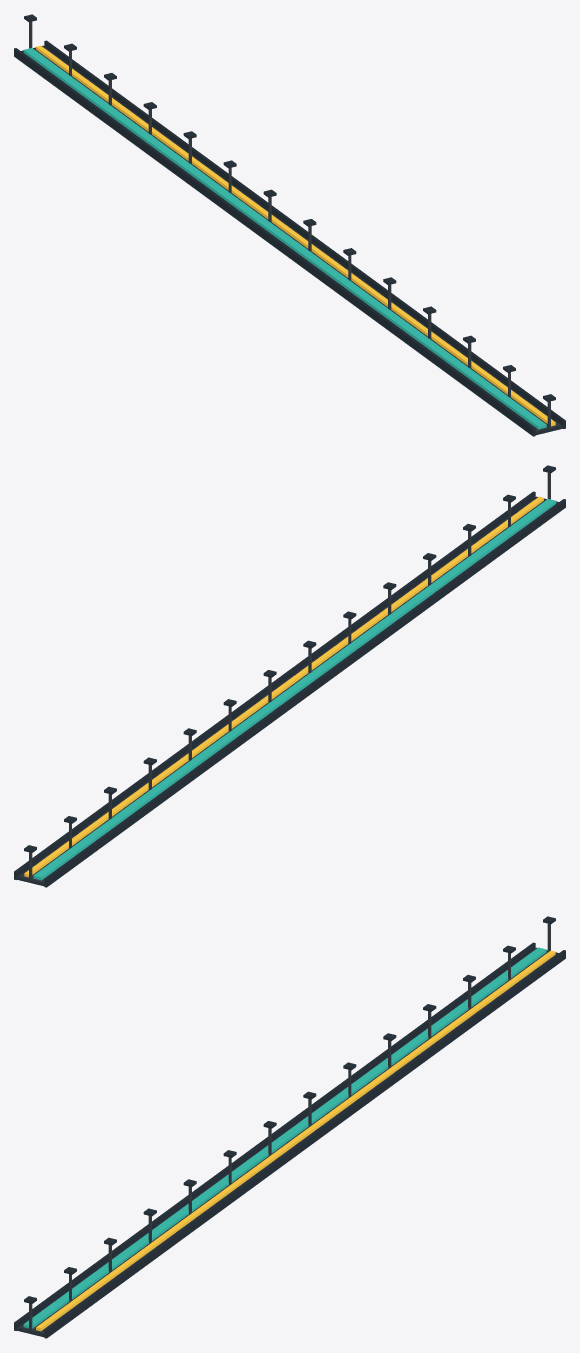
The model's file is infrastructure.glb.
3 views of the same model, one above another, from view 1: azimuth 30°, elevation 25°; view 2: azimuth 150°, elevation 25°; view 3: azimuth 330°, elevation 25° (orthographic).
Parts seen in each view (by area): view 1: overhead-tray; view 2: overhead-tray; view 3: overhead-tray.
Part boxes in pixels (left/top/right/bottom): overhead-tray: left=14, top=14, right=565, bottom=436; overhead-tray: left=14, top=465, right=565, bottom=887; overhead-tray: left=14, top=916, right=565, bottom=1338.
Bounding box in the file's own units: 0.948 × 0.987 × 26.24.
